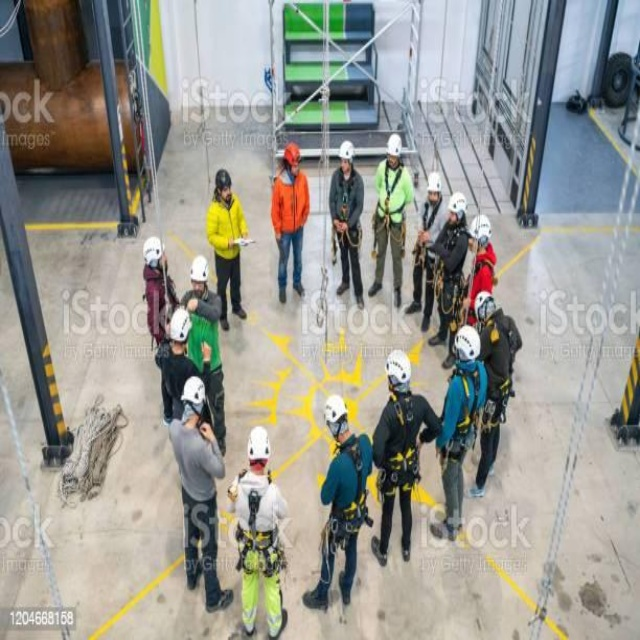Arnes_seguridad: (228, 472, 285, 582), (373, 395, 426, 499), (326, 427, 370, 552), (474, 308, 517, 421), (442, 352, 482, 457), (370, 161, 410, 256), (434, 221, 469, 311), (458, 244, 500, 314), (412, 191, 444, 280), (330, 167, 362, 253)
